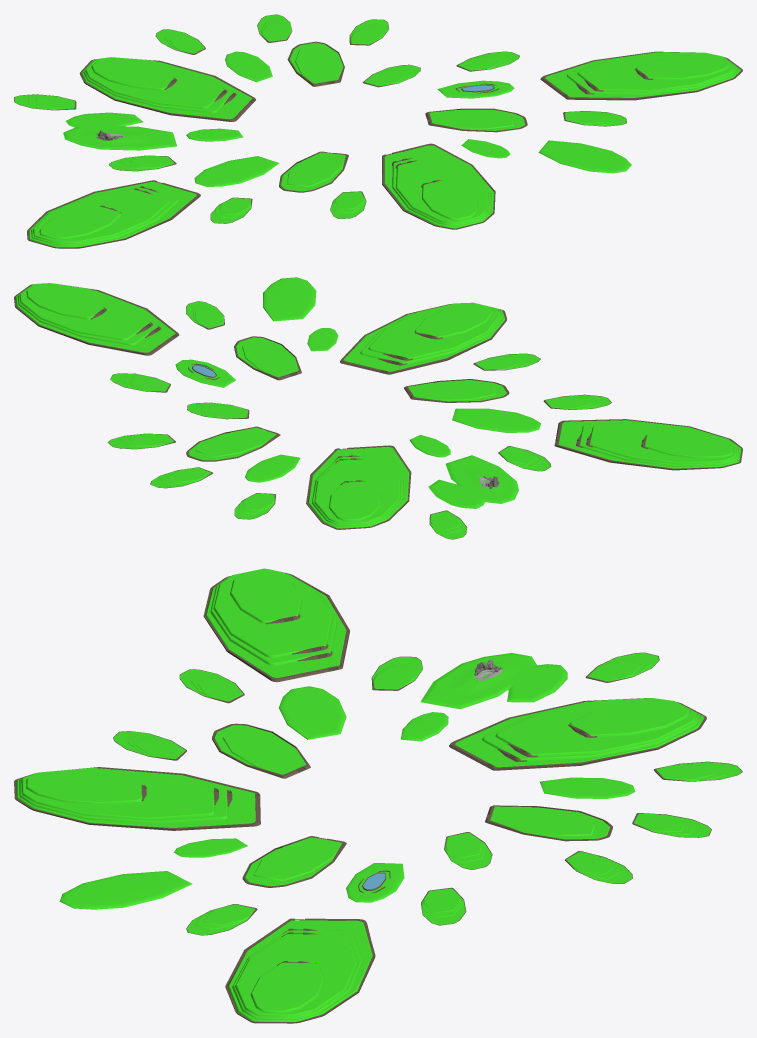
The model's file is map_high.glb.
3 views of the same model, one above another, from view 1: azimuth 30°, elevation 25°; view 2: azimuth 150°, elevation 25°; view 3: azimuth 270°, elevation 25° (orthographic). The views are drawn at different scales.
Parts seen in each view (by area): view 1: geo5; view 2: geo5; view 3: geo5.
Part boxes in pixels (x1,y1,x2,y2): geo5: (14, 14, 742, 248); geo5: (14, 277, 742, 539); geo5: (14, 568, 742, 1023).
Size of the model in its own units: 944 by 11.13 by 640.
